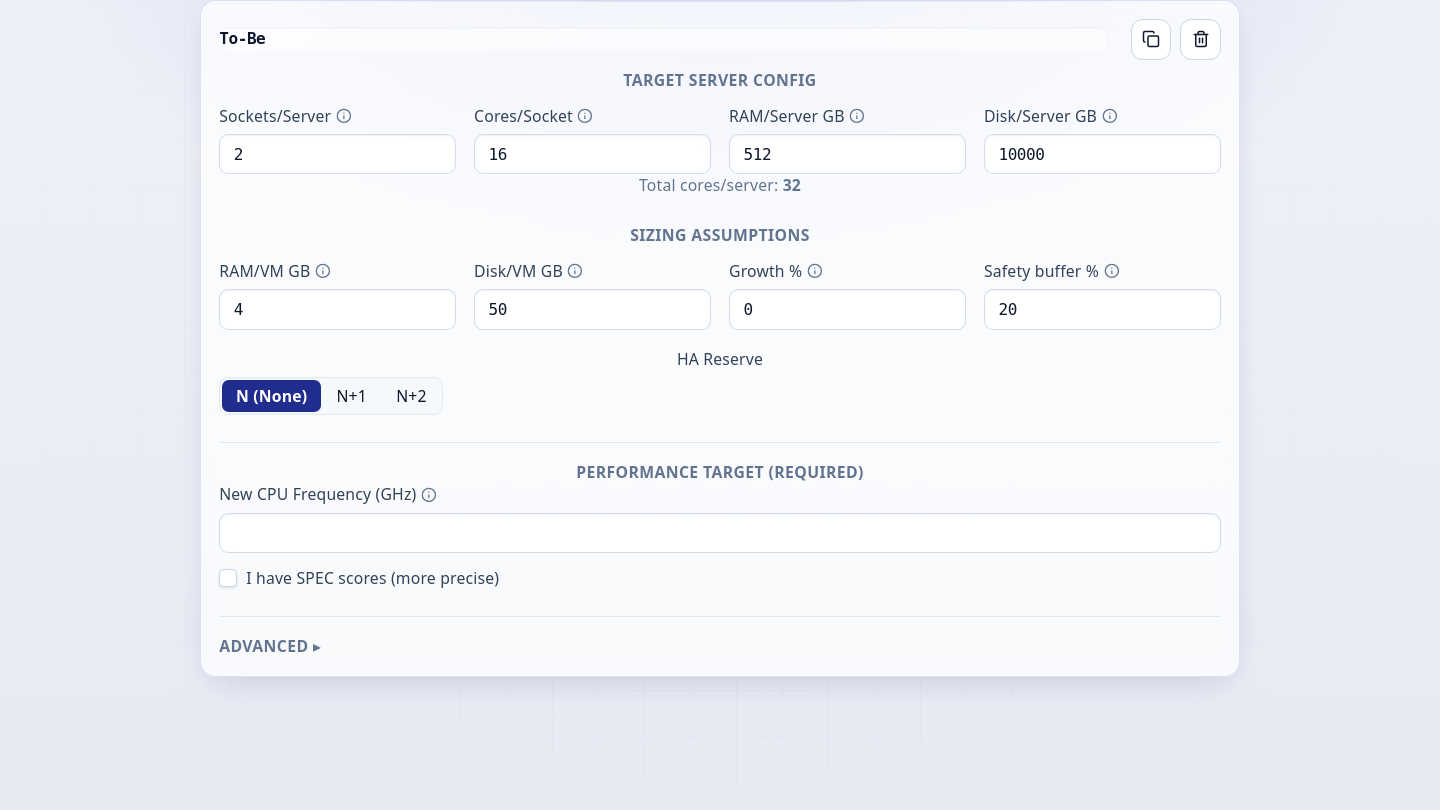
it: SPEC-LOOKUP-04: Target CPU SPEC lookup in ScenarioCard › in performance mode with SPEC enabled, renders "Target CPU Model" input
Step 1. Click the checkbox named "i have spec scores" → (228, 578), box x1=219 y1=569 x2=237 y2=587
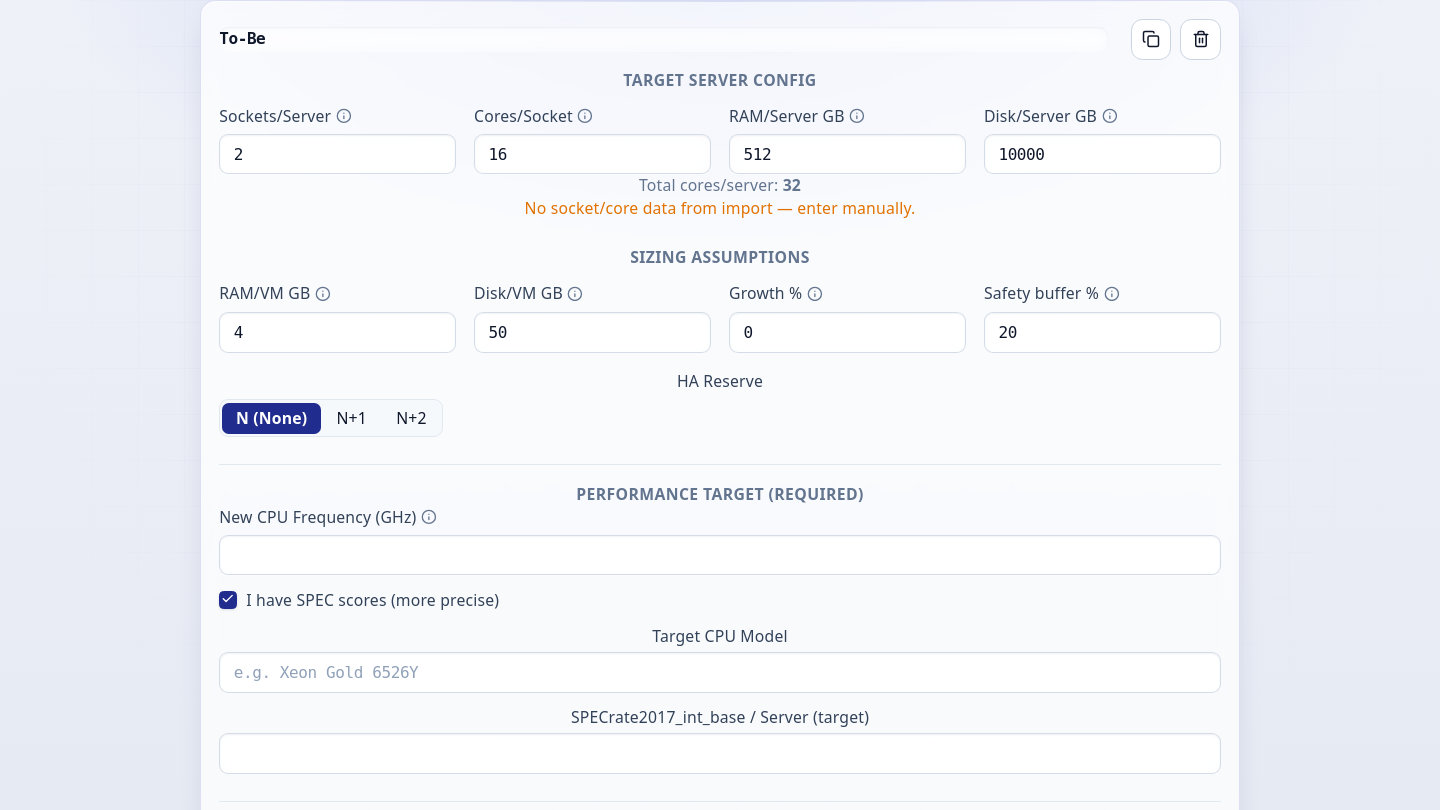
Now the field with placeholder "e.g. Xeon Gold 6526Y" is shown, box x1=219 y1=652 x2=1221 y2=692
